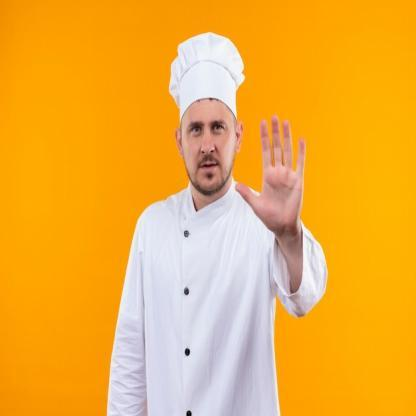stop: (232, 113, 310, 238)
